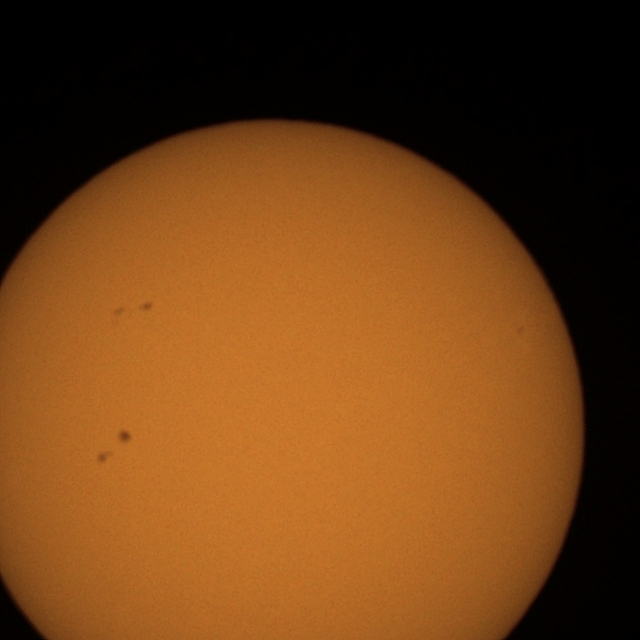sunspot: (96, 449, 114, 466), (116, 429, 132, 446)
